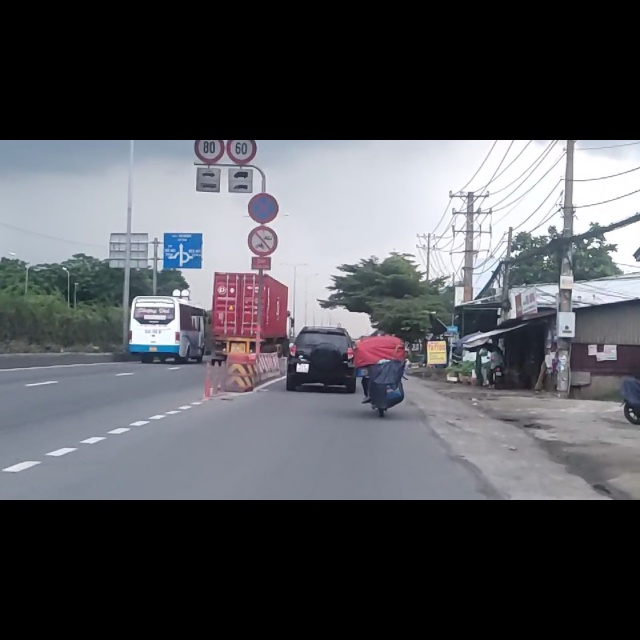bien_chi_dan: (247, 92, 280, 148), (247, 152, 279, 205), (193, 2, 225, 41), (226, 1, 256, 41)
